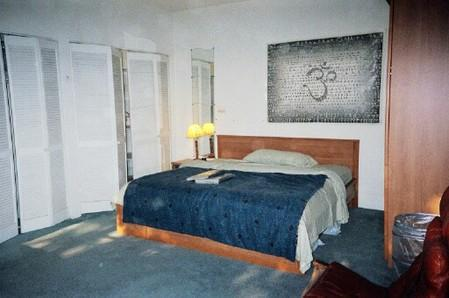Armario: (73, 46, 168, 213), (389, 5, 448, 267), (6, 36, 72, 224)
Cama: (131, 139, 355, 263)
